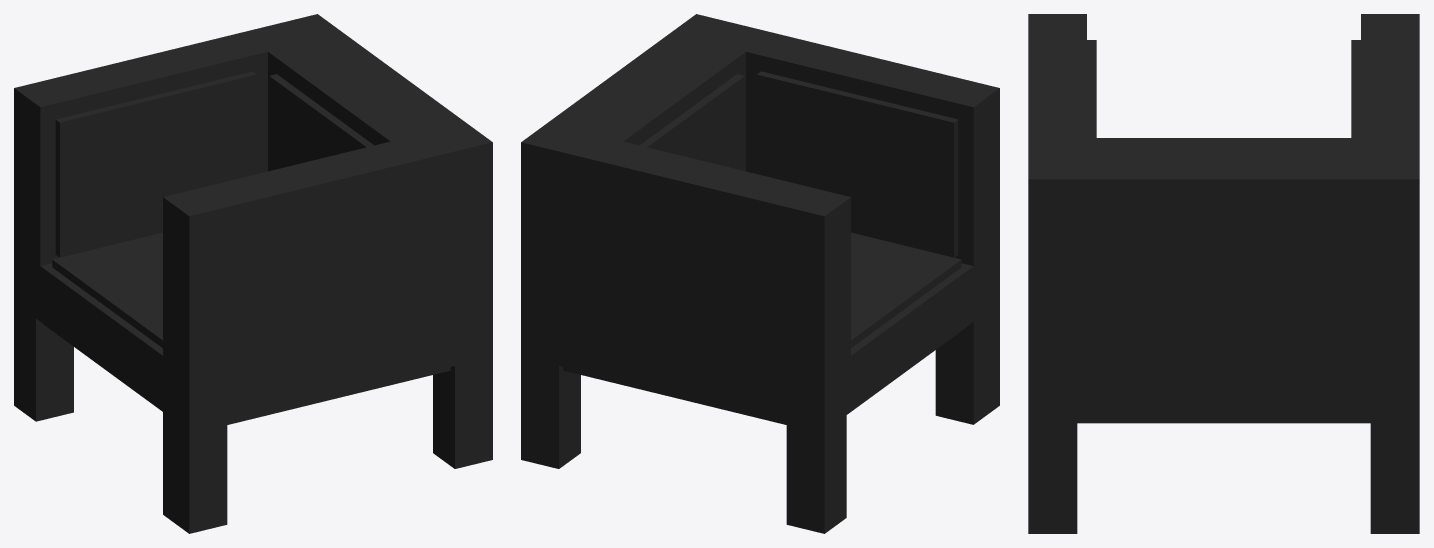
File: armchair.obj
3 views of the same model, side by side, from view 1: azimuth 30°, elevation 25°; view 2: azimuth 150°, elevation 25°; view 3: azimuth 270°, elevation 25° (orthographic). The views are drawn at different scales.
Parts seen in each view (by area): view 1: Armchair; view 2: Armchair; view 3: Armchair.
Part boxes in pixels (x1,y1,x2,y2): Armchair: [14, 14, 492, 533]; Armchair: [521, 14, 999, 533]; Armchair: [1028, 14, 1419, 533].
Bounding box in the file's own units: 40 × 40 × 40.
1 material, 1 textured.
